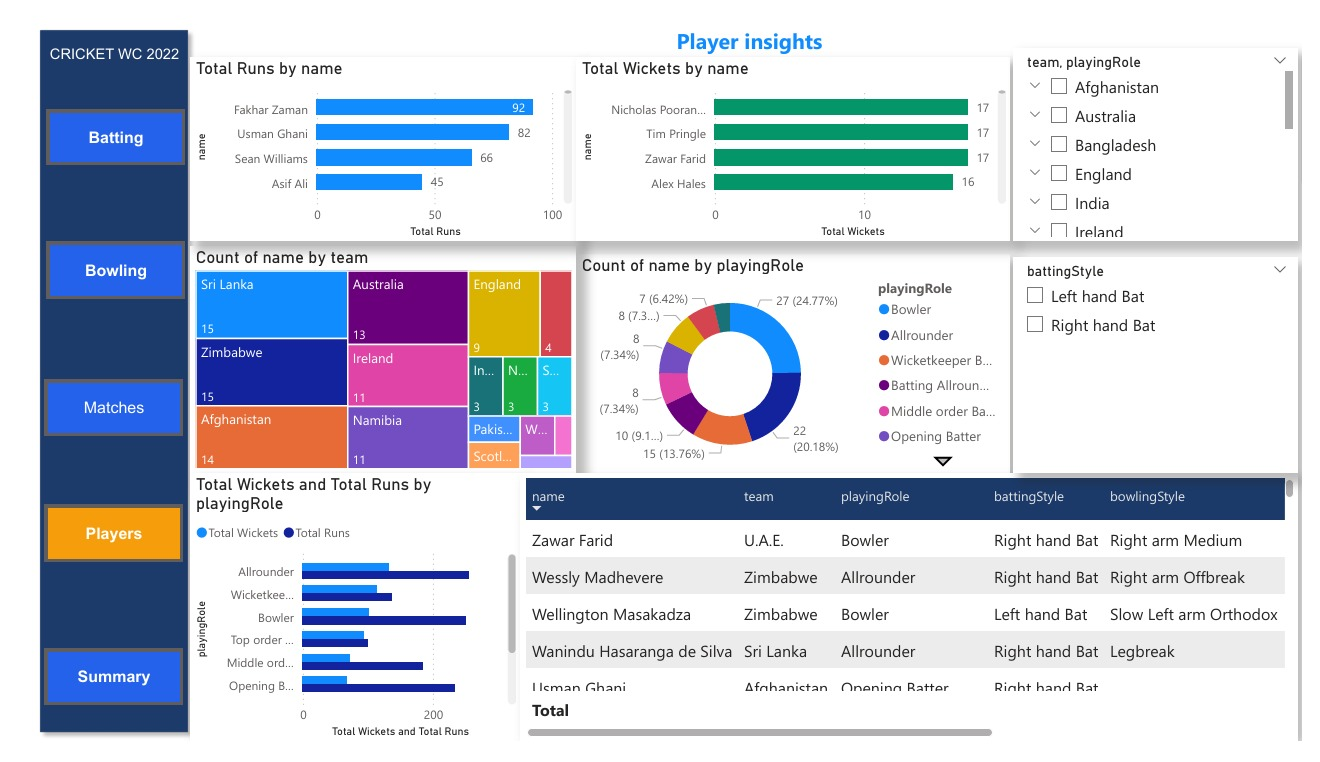

What the dashboard file says about the page in this screenshot:
{"tool":"powerbi","page":{"name":"Players Page","canvas":[1280,720],"ordinal":3},"visuals":[{"type":"shape","box":[9.4,0,165.9,720],"z":0},{"type":"textbox","box":[15.9,19.1,152.9,36.6],"z":1000},{"type":"textbox","box":[175.1,0,1104.6,55.3],"z":2000},{"type":"donutChart","fields":{"Category":["Players.playingRole"],"Y":["CountNonNull(Players.name)"]},"box":[554.6,233.5,434.8,219.7],"z":3000},{"type":"treemap","fields":{"Values":["CountNonNull(Players.name)"],"Group":["Players.team"]},"box":[169,225.8,385.6,227.4],"z":4000},{"type":"clusteredBarChart","fields":{"Category":["Players.name"],"Y":["Batting.Total Runs"]},"box":[169,36.9,385.6,184.4],"z":5000},{"type":"clusteredBarChart","fields":{"Y":["Bowling.Total Wickets"],"Category":["Players.name"]},"box":[554.6,36.9,434.8,184.4],"z":6000},{"type":"clusteredBarChart","fields":{"Category":["Players.playingRole","Players.name"],"Y":["Bowling.Total Wickets","Batting.Total Runs"]},"box":[169,453.2,330.3,267.3],"z":7000},{"type":"tableEx","fields":{"Values":["Players.name","Players.team","Players.playingRole","Players.battingStyle","Players.bowlingStyle","Batting.Total Runs","Batting.Avg Strike Rate","Bowling.Total Wickets","Bowling.Avg Economy Rate"]},"box":[499.3,453.2,777.4,267.3],"z":8000},{"type":"slicer","fields":{"Values":["Players.team","Players.playingRole"]},"box":[992.5,27.7,284.2,193.6],"z":9000},{"type":"slicer","fields":{"Values":["Players.battingStyle"]},"box":[992.5,236.6,284.2,216.6],"z":10000},{"type":"actionButton","box":[24.6,89.1,138.3,55.3],"z":12000},{"type":"actionButton","box":[24.6,221.2,138.3,56.8],"z":13000},{"type":"actionButton","box":[23,359.5,138.3,55.3],"z":14000},{"type":"actionButton","box":[23,483.9,138.3,56.8],"z":15000},{"type":"actionButton","box":[23,628.3,138.3,55.3],"z":16000}]}

Visuals, with their boxes in screenshot pixels (x1, y1, x2, y2), scaled from the page's 1280x720 canvas onto the 1320x762 screenshot:
shape: box(10, 0, 181, 761)
textbox: box(16, 20, 174, 59)
textbox: box(181, 0, 1319, 59)
donutChart - Players.playingRole x CountNonNull(Players.name): box(572, 247, 1020, 480)
treemap - CountNonNull(Players.name) x Players.team: box(174, 239, 572, 480)
clusteredBarChart - Players.name x Batting.Total Runs: box(174, 39, 572, 234)
clusteredBarChart - Bowling.Total Wickets x Players.name: box(572, 39, 1020, 234)
clusteredBarChart - Players.playingRole x Players.name: box(174, 480, 515, 761)
tableEx - Players.name x Players.team: box(515, 480, 1317, 761)
slicer - Players.team x Players.playingRole: box(1024, 29, 1317, 234)
slicer - Players.battingStyle: box(1024, 250, 1317, 480)
actionButton: box(25, 94, 168, 153)
actionButton: box(25, 234, 168, 294)
actionButton: box(24, 380, 166, 439)
actionButton: box(24, 512, 166, 572)
actionButton: box(24, 665, 166, 723)
